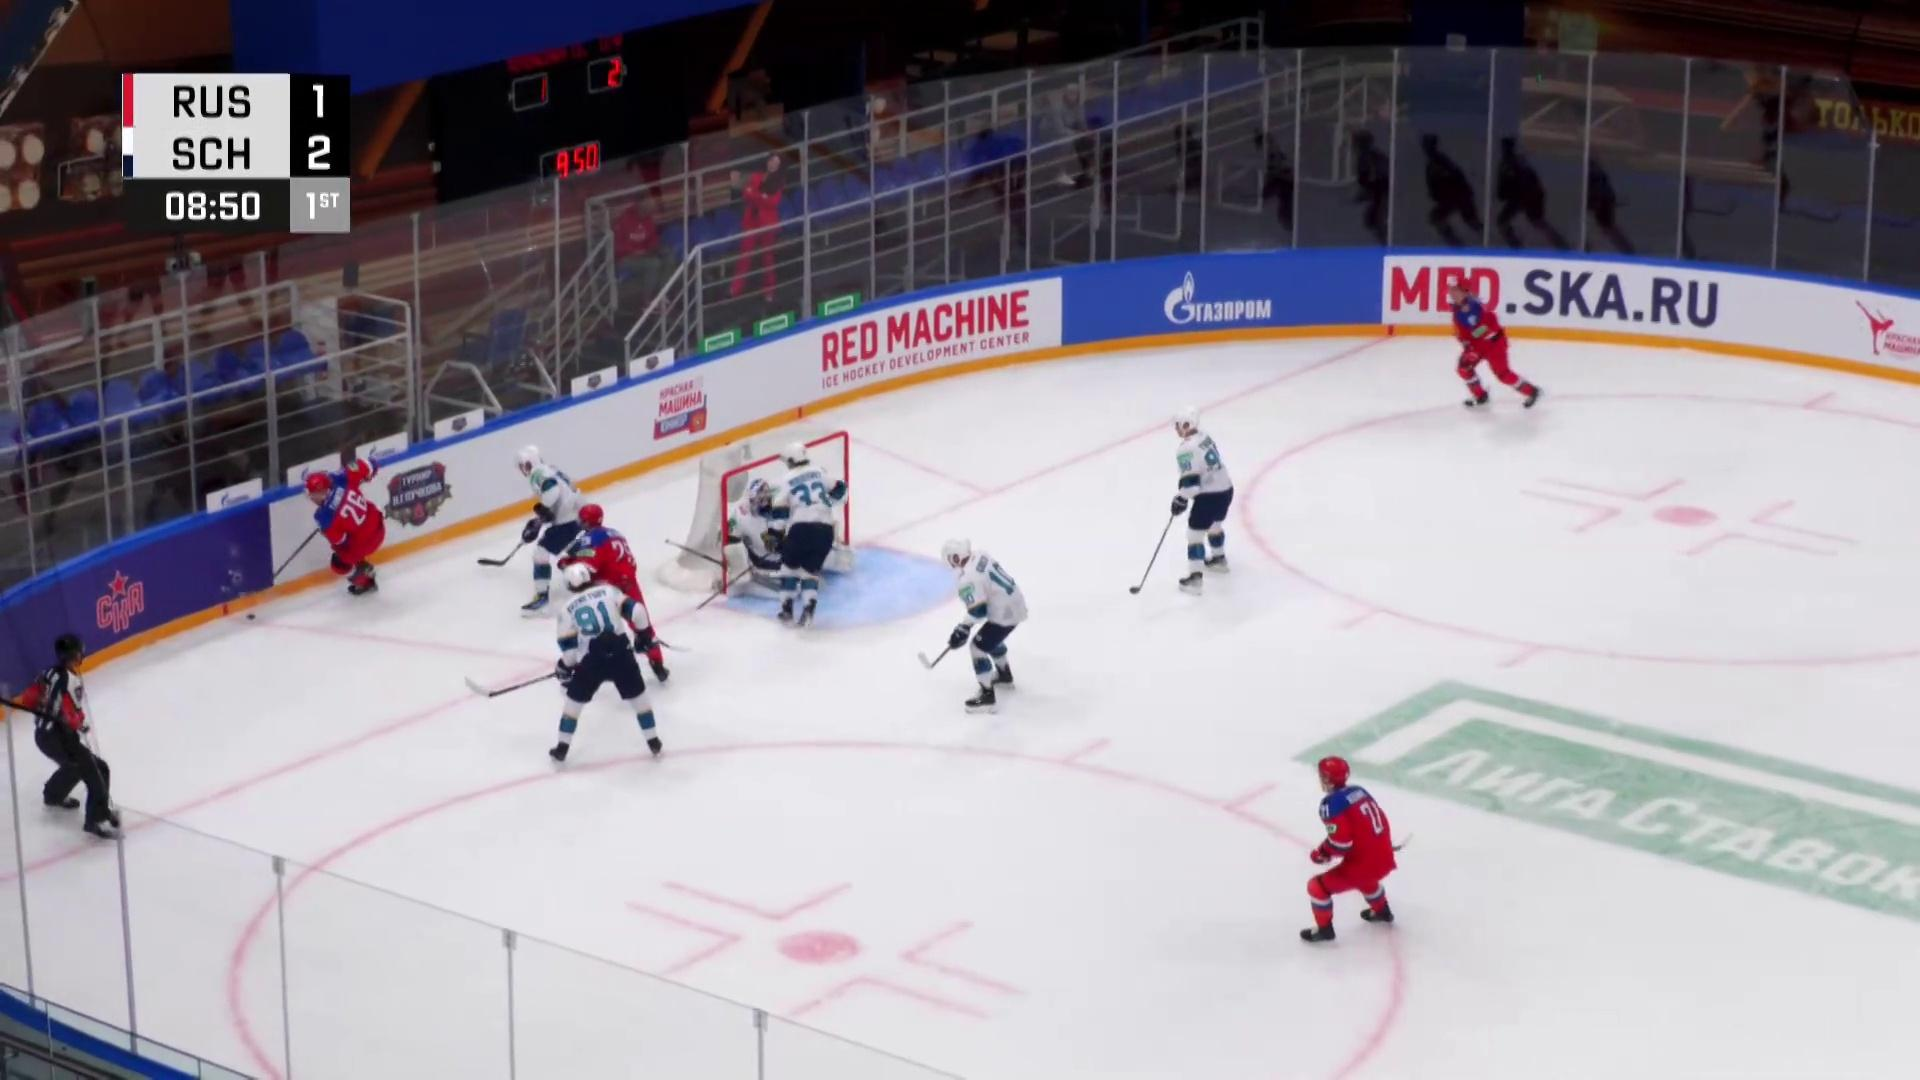ball: (245, 615, 256, 621)
